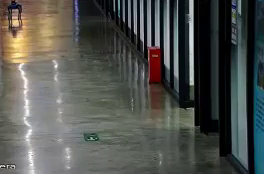robot dog: (5, 1, 24, 29)
